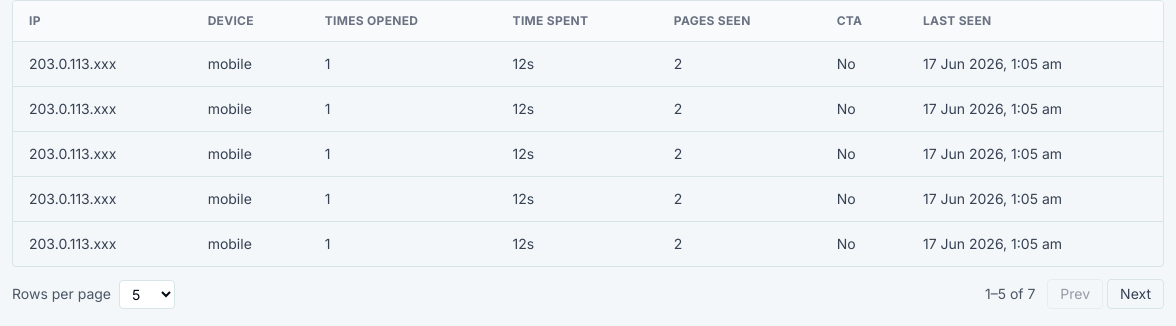
ViewerAnalyticsTable (non-gated) › paginates to 5 rows by default and pages through the rest
Check: the number of buttons named "view per-page breakdown" is 5, box [13,42,1163,86]; [13,86,1163,132]; [13,132,1163,176]; [13,176,1163,222]; [13,222,1163,266]
Check: the text "1–5 of 7" is shown, box [985,284,1035,304]
Click the button "Next": {"x": 1136, "y": 294} [1107,279,1164,309]
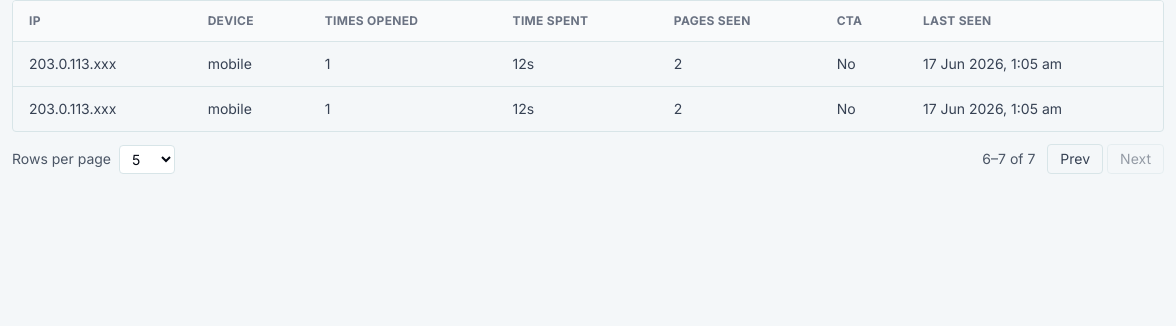
Check: the number of buttons named "view per-page breakdown" is 2, box [13,42,1163,86]; [13,86,1163,131]
Check: the text "6–7 of 7" is shown, box [982,149,1035,169]
